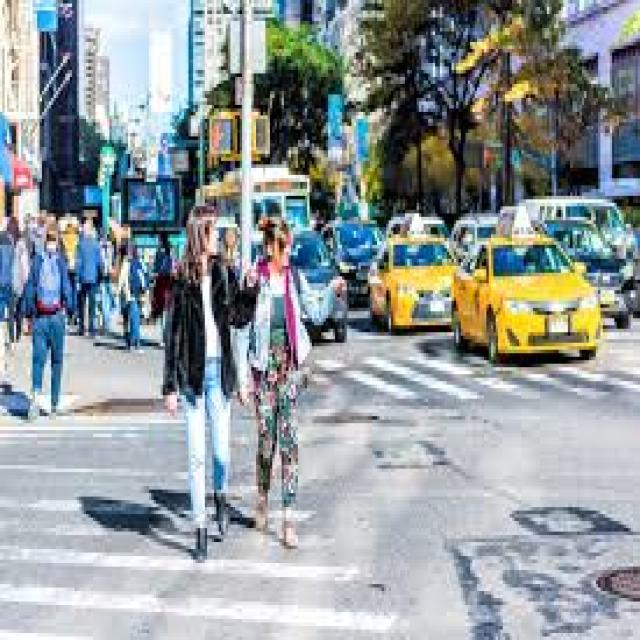Passenger Car: (452, 234, 608, 374), (366, 234, 458, 329)
Pedestrians: (165, 203, 247, 559), (249, 217, 333, 545), (23, 227, 72, 427)
